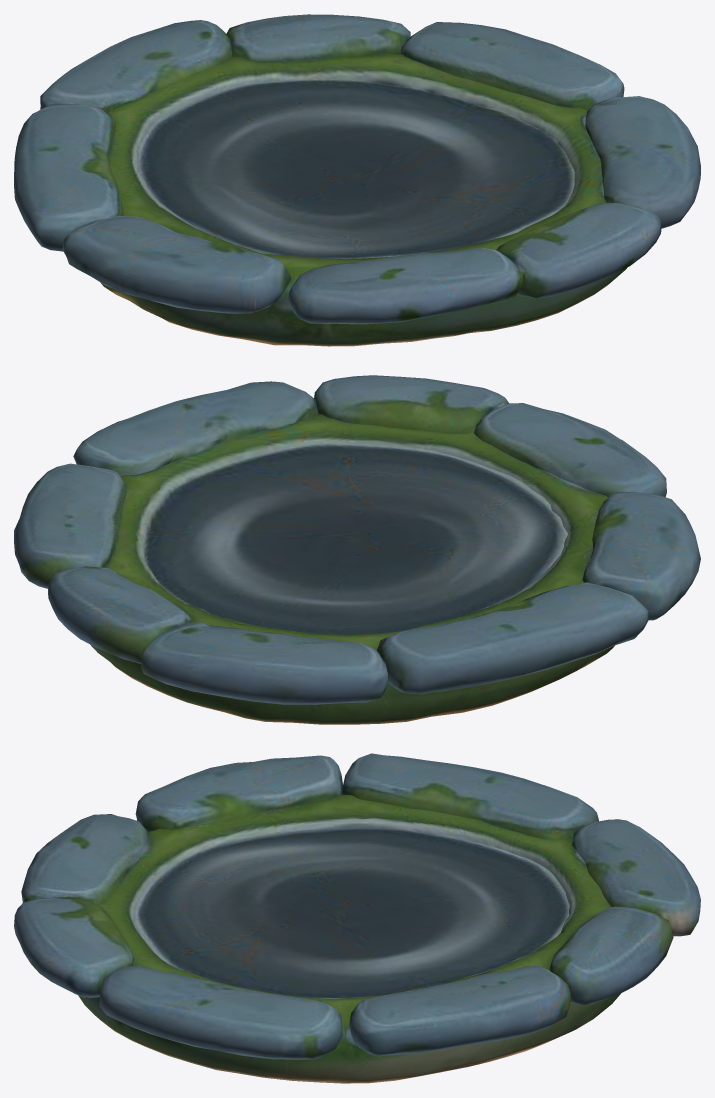
Rendered from el_poca.glb.
The picture shows the model from 3 angles, top to bottom: view 1: azimuth 30°, elevation 25°; view 2: azimuth 150°, elevation 25°; view 3: azimuth 270°, elevation 25°; orthographic projection. The views are drawn at different scales.
Parts seen in each view (by area): view 1: Mesh_0; view 2: Mesh_0; view 3: Mesh_0.
Part boxes in pixels (x1=…): Mesh_0: x1=14, y1=14, x2=700, y2=346; Mesh_0: x1=14, y1=375, x2=700, y2=724; Mesh_0: x1=14, y1=753, x2=700, y2=1083.
Size of the model in its own units: 0.2674 by 0.0383 by 0.2744.
Materials: 1 (1 with a texture image).
